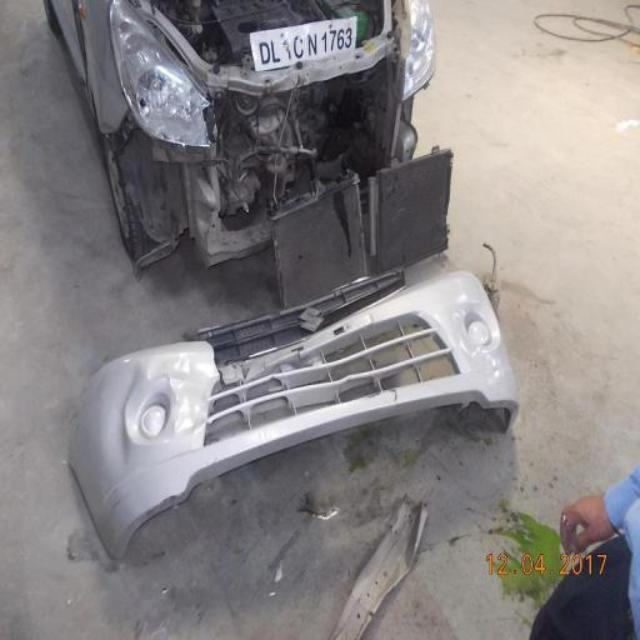no part: (96, 37, 446, 262)
